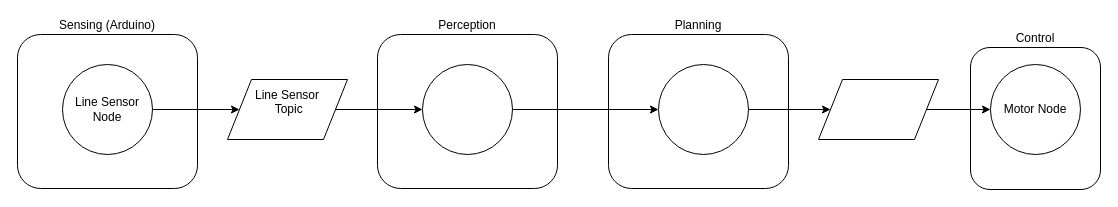
Image size: 1118x207. Some labels were removed from this diagram. Here are the shapes that lost their labels. From the top down, the centre of each, then its label:
At point (467, 109): "Observe Line Distances".
At point (703, 109): "Adjust to maintain Lane Position Node".
At point (878, 109): "Command Velocity Topic".
